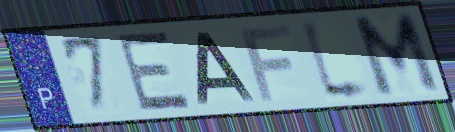7: (57, 34, 110, 117)
A: (195, 30, 260, 107)
E: (114, 29, 196, 115)
F: (237, 22, 296, 104)
L: (296, 15, 378, 105)
M: (349, 9, 445, 101)
